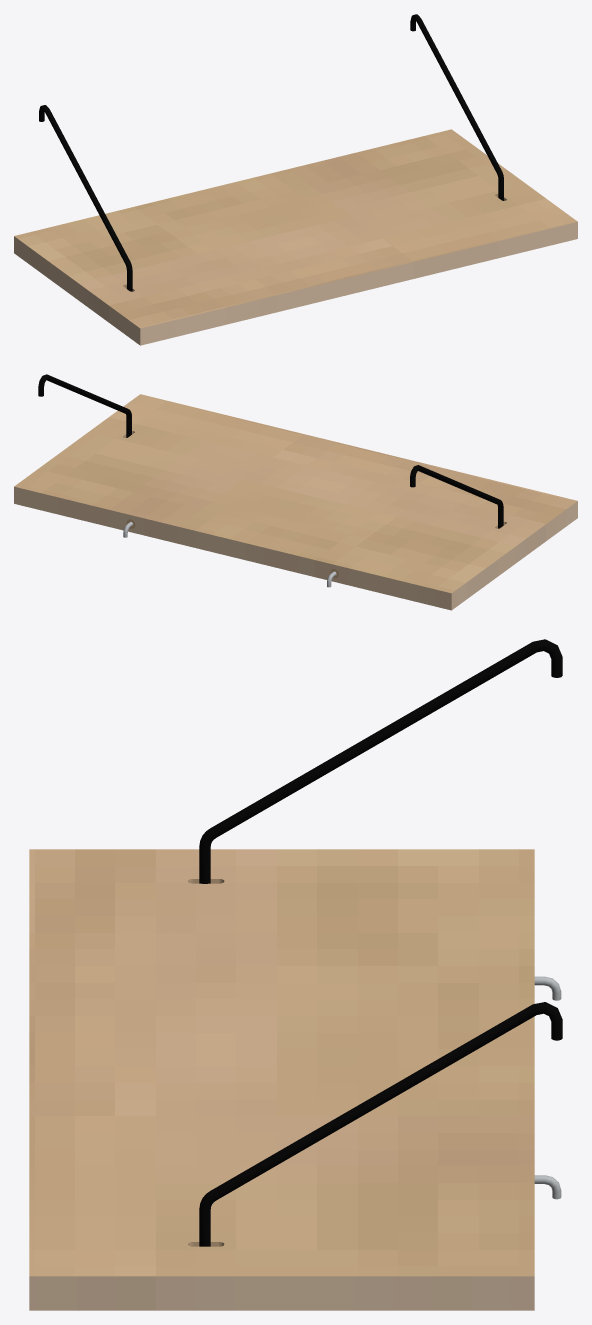
The model's file is board40x20.glb.
The picture shows the model from 3 angles, top to bottom: view 1: azimuth 30°, elevation 25°; view 2: azimuth 150°, elevation 25°; view 3: azimuth 270°, elevation 25°; orthographic projection. The views are drawn at different scales.
Parts seen in each view (by area): view 1: Geom3D (×4); view 2: Geom3D (×4); view 3: Geom3D (×4).
Part boxes in pixels (x1,y1,x2,y2): Geom3D (×4): (14,14,577,345); Geom3D (×4): (14,374,577,610); Geom3D (×4): (29,639,562,1310).
Bounding box in the file's own units: 0.4 × 0.1211 × 0.2111.
4 materials, 3 textured.
